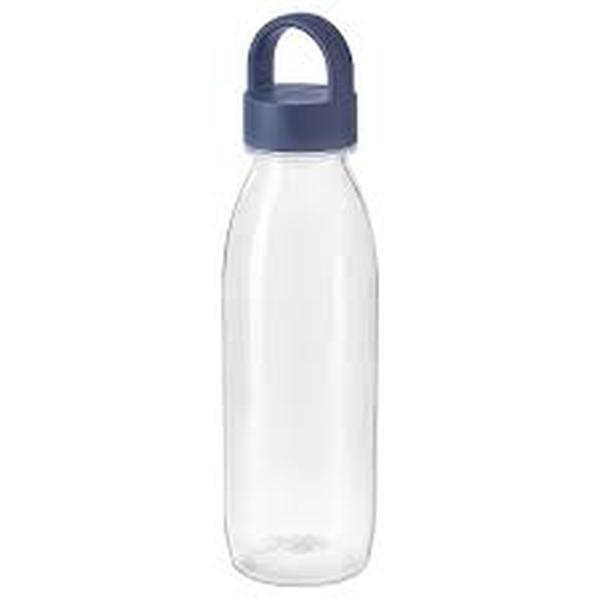tutuma: (207, 2, 392, 586)
